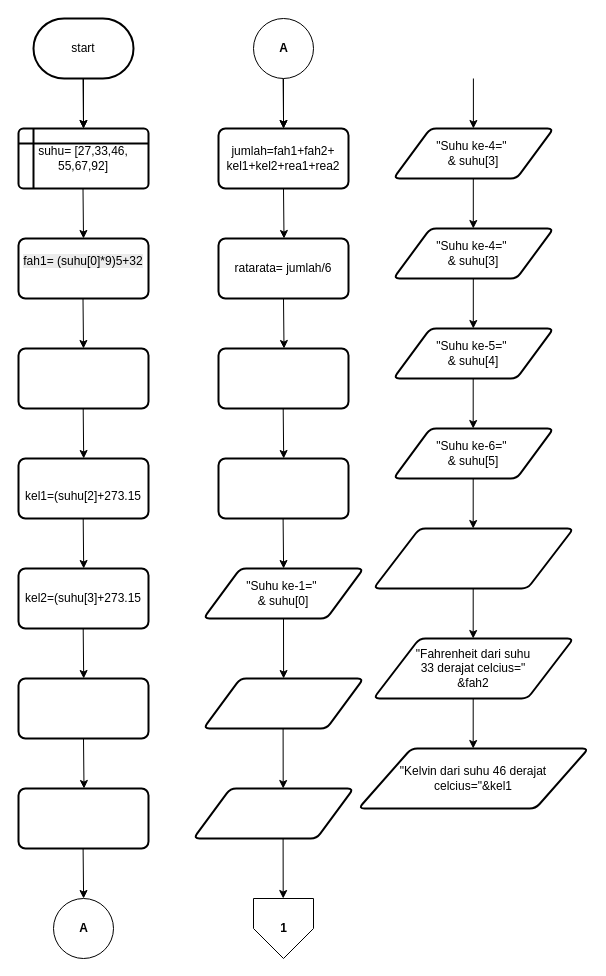
The diagram is 606 pixels wide and 976 high, and some of its shapes have lost their labels. The box of each missing label's shape, as (x1, y1, x2, y2) in pixels:
"Fahrenheit dari suhu 27 derajat celcius=" &fah1: (372, 527, 574, 589)
"Suhu ke-2=" & suhu[1]: (202, 677, 364, 729)
"Suhu ke-3=" & suhu[2]: (192, 787, 354, 839)
bolean=nIM<ratarata: (217, 457, 349, 519)
fah2= (suhu[1]*9)5=32: (17, 347, 149, 409)
nIM=65: (217, 347, 349, 409)
rea1=(suhu[4]*4)/5: (17, 677, 149, 739)
rea2=(suhu[5]*4)/5: (17, 787, 149, 849)
